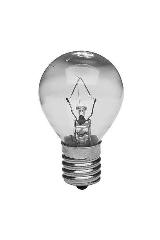lightbulb: (38, 50, 124, 190)
